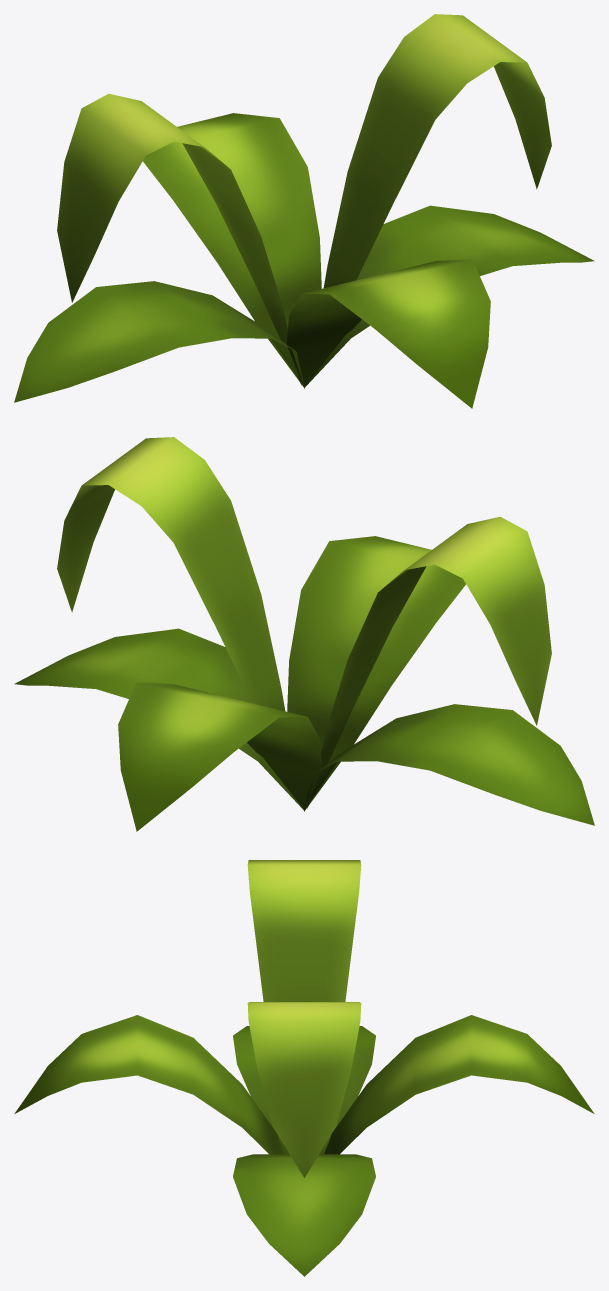
Rendered from weed02.fbx.
3 renders of one model, top to bottom at view 1: azimuth 30°, elevation 25°; view 2: azimuth 150°, elevation 25°; view 3: azimuth 270°, elevation 25°, orthographic. The views are drawn at different scales.
Visible parts, largest first — view 1: weed02; view 2: weed02; view 3: weed02.
Boxes of the visible parts, left/top/right/bottom form: weed02: left=14, top=14, right=594, bottom=408; weed02: left=14, top=437, right=594, bottom=831; weed02: left=14, top=860, right=594, bottom=1276.
Size of the model in its own units: 5.83 by 2.98 by 5.83.
Materials: 1 (1 with a texture image).
